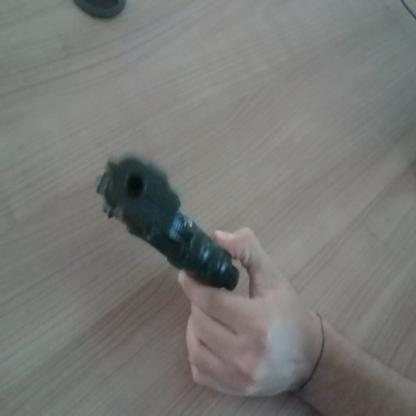handgun: (94, 139, 254, 300)
